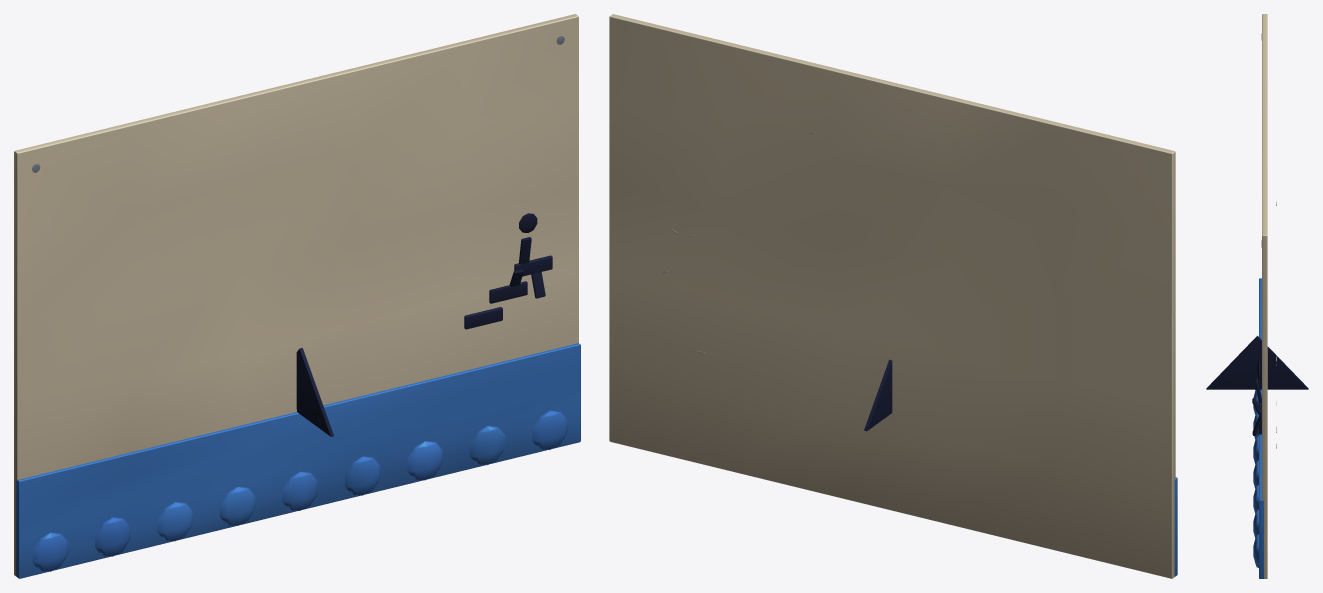
The model's file is SM_Stage4_SafetySign.fbx.
The picture shows the model from 3 angles, left to right: view 1: azimuth 30°, elevation 25°; view 2: azimuth 150°, elevation 25°; view 3: azimuth 270°, elevation 25°; orthographic projection. The views are drawn at different scales.
Visible parts, largest first — view 1: SM_Stage4_SafetySign; view 2: SM_Stage4_SafetySign; view 3: SM_Stage4_SafetySign.
Part boxes in pixels (bbox=[...]): SM_Stage4_SafetySign: bbox=[14, 14, 580, 578]; SM_Stage4_SafetySign: bbox=[609, 14, 1177, 578]; SM_Stage4_SafetySign: bbox=[1206, 14, 1308, 578].
Bounding box in the file's own units: 360 × 260 × 70.04.
